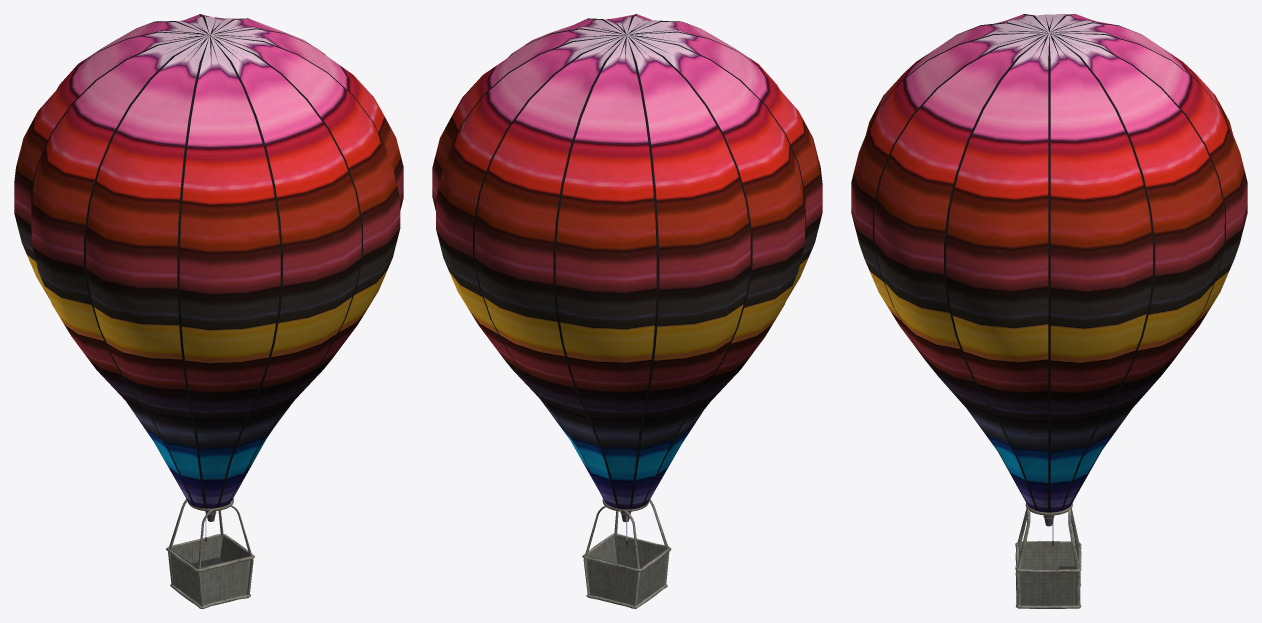
The model's file is Balloon.FBX.
The picture shows the model from 3 angles, left to right: view 1: azimuth 30°, elevation 25°; view 2: azimuth 150°, elevation 25°; view 3: azimuth 270°, elevation 25°; orthographic projection.
Visible parts, largest first — view 1: Body; view 2: Body; view 3: Body.
Boxes of the visible parts, x1,y1,x2,y2 form: Body: (14,14,403,608); Body: (432,14,822,608); Body: (851,14,1247,608).
Bounding box in the file's own units: 396 × 627 × 400.
1 material, 1 textured.
